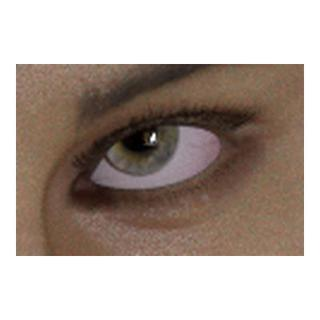pupil: (119, 115, 156, 152)
